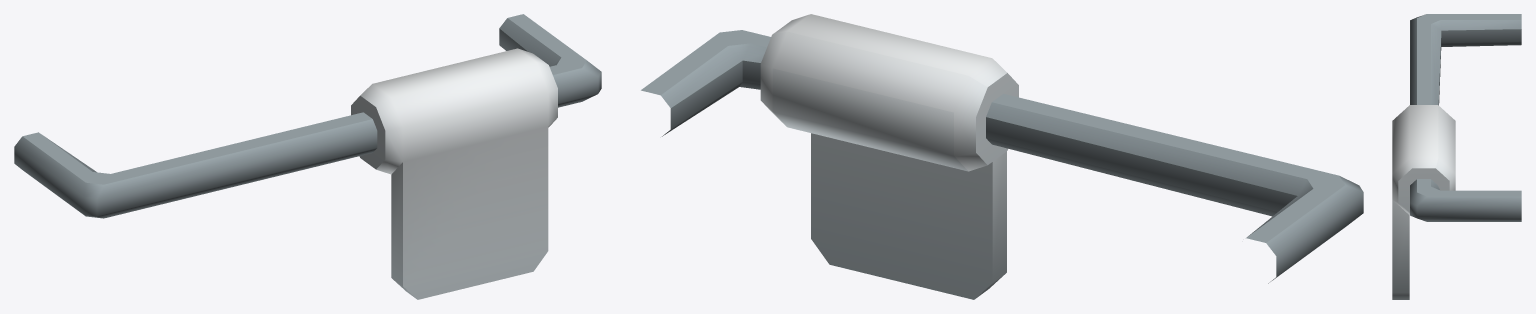
The model's file is cc0-towelrail-lod0.glb.
The picture shows the model from 3 angles, left to right: view 1: azimuth 30°, elevation 25°; view 2: azimuth 150°, elevation 25°; view 3: azimuth 270°, elevation 25°; orthographic projection. The views are drawn at different scales.
Visible parts, largest first — view 1: part_0; view 2: part_0; view 3: part_0.
Part boxes in pixels (x1,y1,x2,y2): part_0: [14, 14, 601, 299]; part_0: [641, 14, 1363, 299]; part_0: [1392, 14, 1521, 299].
Size of the model in its own units: 1.6 by 0.5829 by 0.4634.
1 material, 1 textured.
